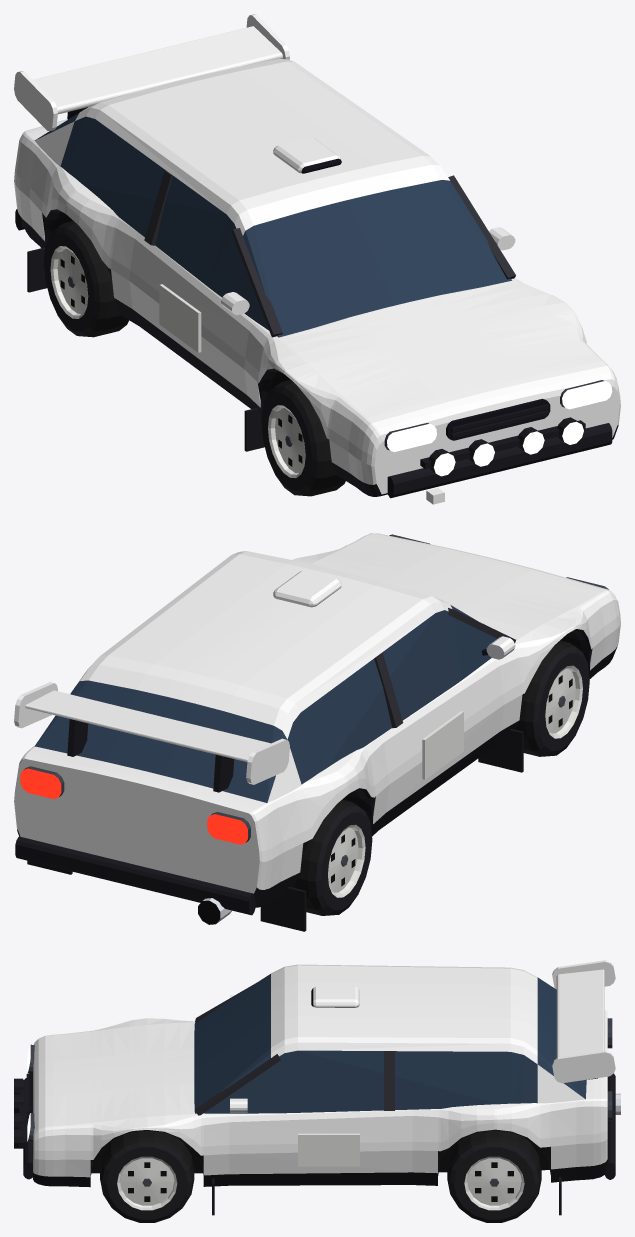
File: rally.glb
3 renders of one model, top to bottom at view 1: azimuth 30°, elevation 25°; view 2: azimuth 150°, elevation 25°; view 3: azimuth 270°, elevation 25°, orthographic. The views are drawn at different scales.
Parts seen in each view (by area): view 1: paint, glass, stripe_a, accent, trim, white (×3), tire_side (×2), tire (×2), stripe_b, headlight, trim_soft, trim_grille (+1 smaller); view 2: paint, glass, stripe_a, trim, accent, white (×3), tire_side (×2), stripe_b, tire (×2), mud, taillight, trim_soft (+2 smaller); view 3: paint, glass, stripe_a, trim, white (×3), tire_side (×2), accent, stripe_b, tire (×2), trim_soft, trim_under, chrome_housing.
Boxes of the visible parts, x1,y1,x2,y2 form: paint: (14, 58, 620, 494); glass: (35, 112, 511, 337); stripe_a: (146, 68, 540, 420); accent: (14, 14, 444, 504); trim: (15, 107, 618, 498); white (×3): (50, 246, 305, 478); tire_side (×2): (43, 227, 345, 495); tire (×2): (58, 221, 345, 496); stripe_b: (14, 171, 620, 466); headlight: (387, 381, 612, 476); trim_soft: (144, 170, 515, 337); trim_grille: (301, 158, 550, 440); paint: (14, 533, 620, 893); glass: (34, 605, 497, 802); stripe_a: (93, 548, 536, 793); trim: (15, 629, 617, 915); accent: (14, 682, 289, 784); white (×3): (328, 665, 582, 897); tire_side (×2): (315, 646, 589, 915); stripe_b: (14, 613, 620, 861); tire (×2): (294, 640, 574, 915); mud: (27, 729, 523, 931); taillight: (20, 768, 247, 844); trim_soft: (374, 608, 515, 728); paint: (33, 964, 607, 1177); glass: (194, 974, 586, 1113); stripe_a: (33, 982, 607, 1105); trim: (14, 1073, 615, 1187); white (×3): (117, 1133, 524, 1210); tire_side (×2): (102, 1142, 539, 1222); accent: (552, 960, 615, 1083); stripe_b: (33, 1123, 607, 1159); tire (×2): (100, 1130, 541, 1208); trim_soft: (195, 984, 394, 1115); trim_under: (91, 1137, 549, 1173); chrome_housing: (27, 1018, 612, 1142).
Size of the model in its own units: 1.94 by 1.46 by 4.51.
